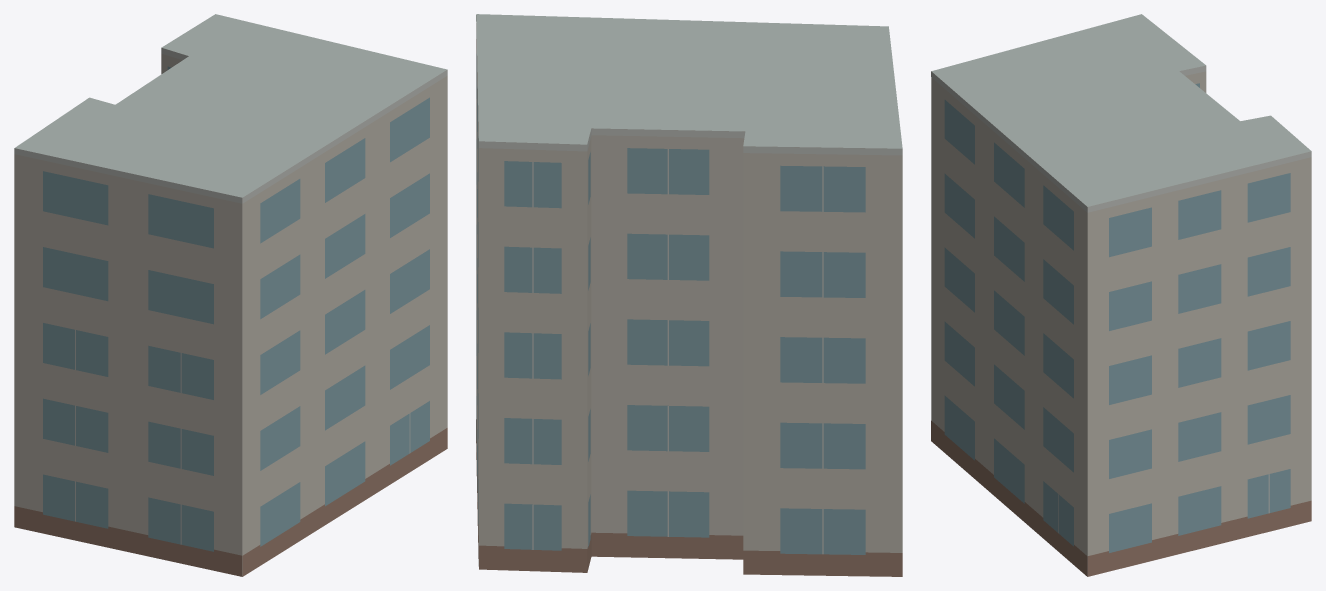
Rendered from survey-upis-32493837.glb.
The picture shows the model from 3 angles, left to right: view 1: azimuth 30°, elevation 25°; view 2: azimuth 150°, elevation 25°; view 3: azimuth 270°, elevation 25°; orthographic projection. The views are drawn at different scales.
Parts seen in each view (by area): view 1: survey-upis-32493837.tmp; view 2: survey-upis-32493837.tmp; view 3: survey-upis-32493837.tmp.
Part boxes in pixels (x1,y1,x2,y2): survey-upis-32493837.tmp: (14, 14, 447, 576); survey-upis-32493837.tmp: (476, 14, 902, 576); survey-upis-32493837.tmp: (931, 14, 1311, 576).
Size of the model in its own units: 17.24 by 15.4 by 14.37.
